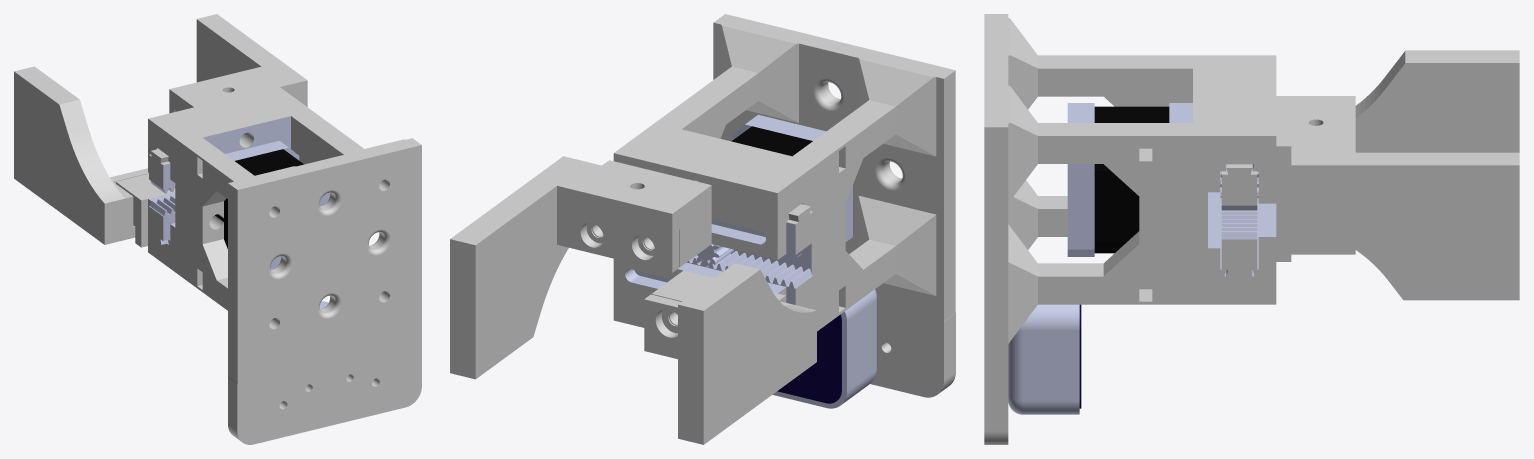
3 renders of one model, left to right at view 1: azimuth 30°, elevation 25°; view 2: azimuth 150°, elevation 25°; view 3: azimuth 270°, elevation 25°, orthographic. The views are drawn at different scales.
Visible parts, largest first — view 1: node_640089cf_e454_43a0_9f2b_ea78421f9a55_mesh1, node_640089cf_e454_43a0_9f2b_ea78421f9a55_mesh0, node_640089cf_e454_43a0_9f2b_ea78421f9a55_mesh5, node_640089cf_e454_43a0_9f2b_ea78421f9a55_mesh2; view 2: node_640089cf_e454_43a0_9f2b_ea78421f9a55_mesh1, node_640089cf_e454_43a0_9f2b_ea78421f9a55_mesh0, node_640089cf_e454_43a0_9f2b_ea78421f9a55_mesh4, node_640089cf_e454_43a0_9f2b_ea78421f9a55_mesh5, node_640089cf_e454_43a0_9f2b_ea78421f9a55_mesh2; view 3: node_640089cf_e454_43a0_9f2b_ea78421f9a55_mesh1, node_640089cf_e454_43a0_9f2b_ea78421f9a55_mesh0, node_640089cf_e454_43a0_9f2b_ea78421f9a55_mesh5, node_640089cf_e454_43a0_9f2b_ea78421f9a55_mesh2.
Part boxes in pixels (x1,y1,x2,y2): node_640089cf_e454_43a0_9f2b_ea78421f9a55_mesh1: [14, 14, 421, 444]; node_640089cf_e454_43a0_9f2b_ea78421f9a55_mesh0: [148, 116, 328, 308]; node_640089cf_e454_43a0_9f2b_ea78421f9a55_mesh5: [215, 149, 303, 248]; node_640089cf_e454_43a0_9f2b_ea78421f9a55_mesh2: [149, 141, 329, 269]; node_640089cf_e454_43a0_9f2b_ea78421f9a55_mesh1: [450, 14, 955, 444]; node_640089cf_e454_43a0_9f2b_ea78421f9a55_mesh0: [625, 114, 876, 408]; node_640089cf_e454_43a0_9f2b_ea78421f9a55_mesh4: [777, 314, 841, 403]; node_640089cf_e454_43a0_9f2b_ea78421f9a55_mesh5: [731, 126, 812, 156]; node_640089cf_e454_43a0_9f2b_ea78421f9a55_mesh2: [696, 185, 852, 288]; node_640089cf_e454_43a0_9f2b_ea78421f9a55_mesh1: [984, 14, 1519, 444]; node_640089cf_e454_43a0_9f2b_ea78421f9a55_mesh0: [1008, 103, 1276, 414]; node_640089cf_e454_43a0_9f2b_ea78421f9a55_mesh5: [1094, 106, 1169, 253]; node_640089cf_e454_43a0_9f2b_ea78421f9a55_mesh2: [1169, 103, 1258, 230].
Size of the model in its own units: 99 by 180 by 120.
